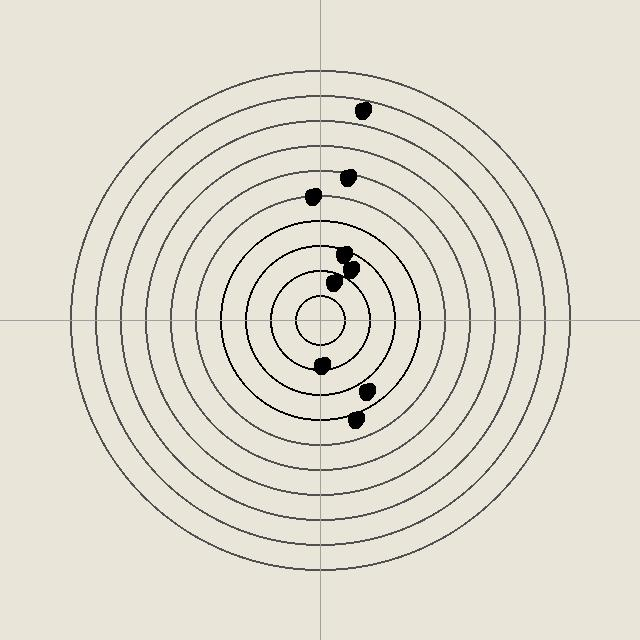vertical_scatter: (340, 259, 360, 279), (352, 100, 372, 120), (337, 167, 357, 187), (333, 244, 353, 264), (356, 381, 376, 401), (302, 186, 322, 206), (323, 272, 343, 292), (345, 409, 365, 429), (311, 355, 331, 375)
